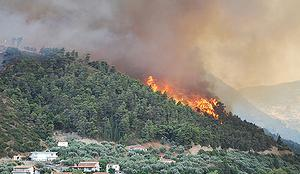fire: (147, 73, 221, 117)
